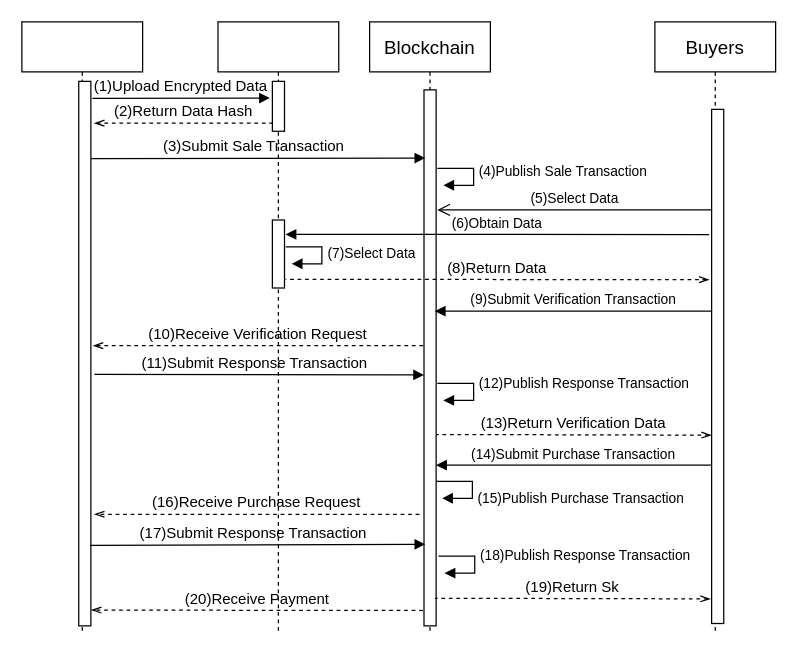
Image size: 798x656. Some labels were removed from this diagram. The shapes that lost their labels are listed below. From the top down, each one's box as (x1, y1, x2, y2) in pixels, then its label:
(21, 21, 143, 634): Sellers
(217, 21, 339, 634): IPFS
